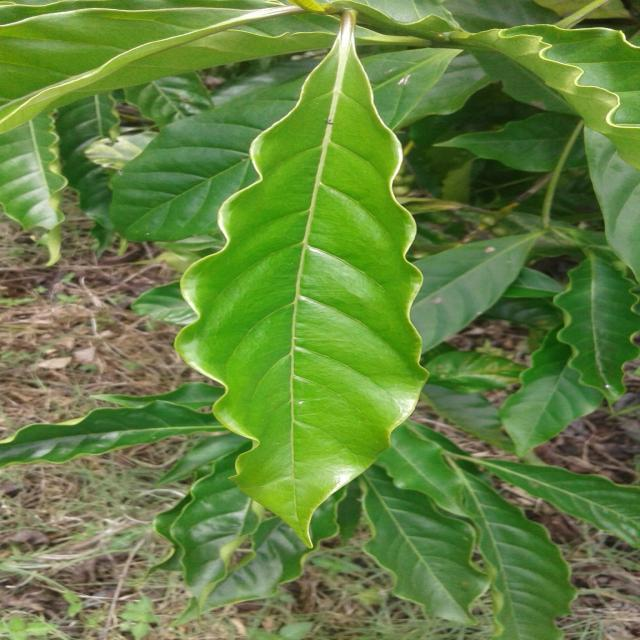Sanas: (174, 10, 429, 545)
